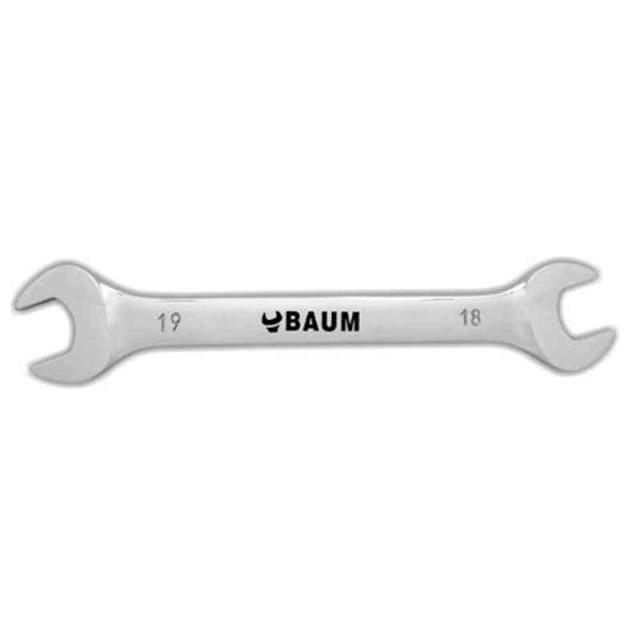Dry: (11, 250, 629, 388)
